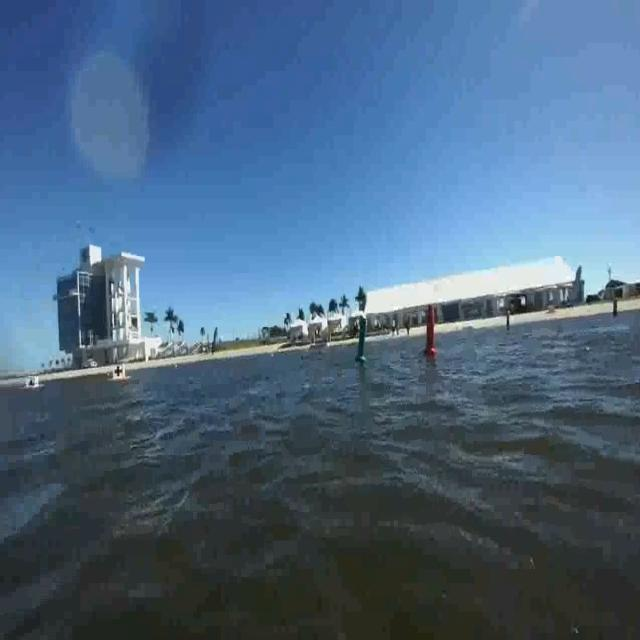green-column-buoy: (355, 318, 367, 364)
red-column-buoy: (423, 304, 439, 358)
